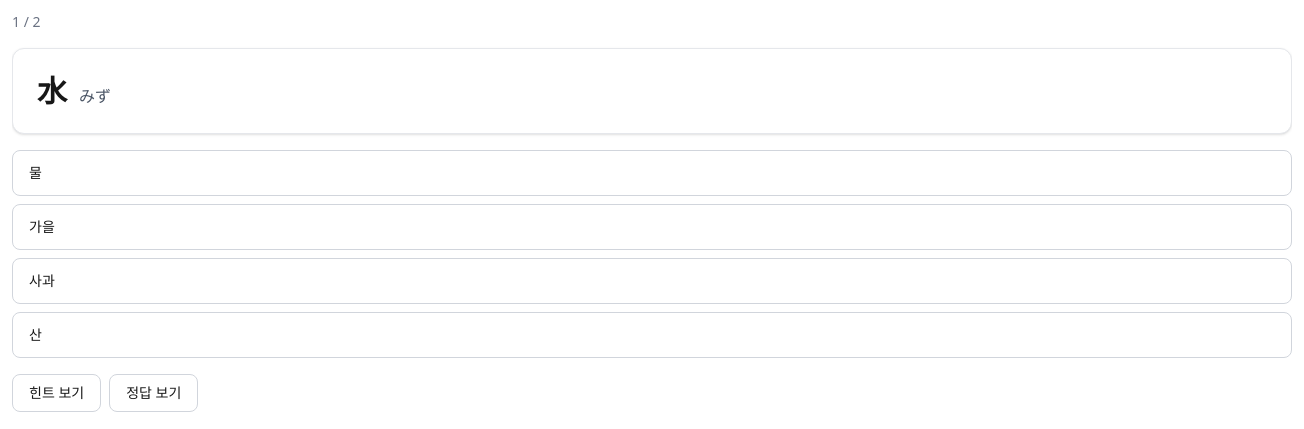
QuizPlayer › 오답 선택 시 '오답'과 정답('정답: 물')이 노출된다
Click the button "산" at coordinates (35, 334), box [12,312,1292,358]
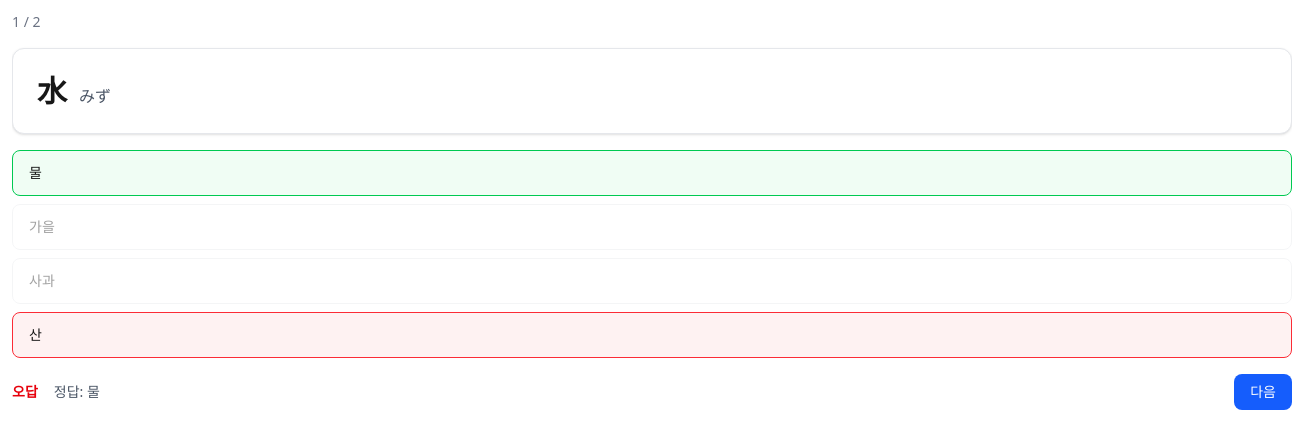
expect the text "오답" is shown: met, box [12,382,38,402]
expect the text "정답: 물" is shown: met, box [54,382,100,402]
